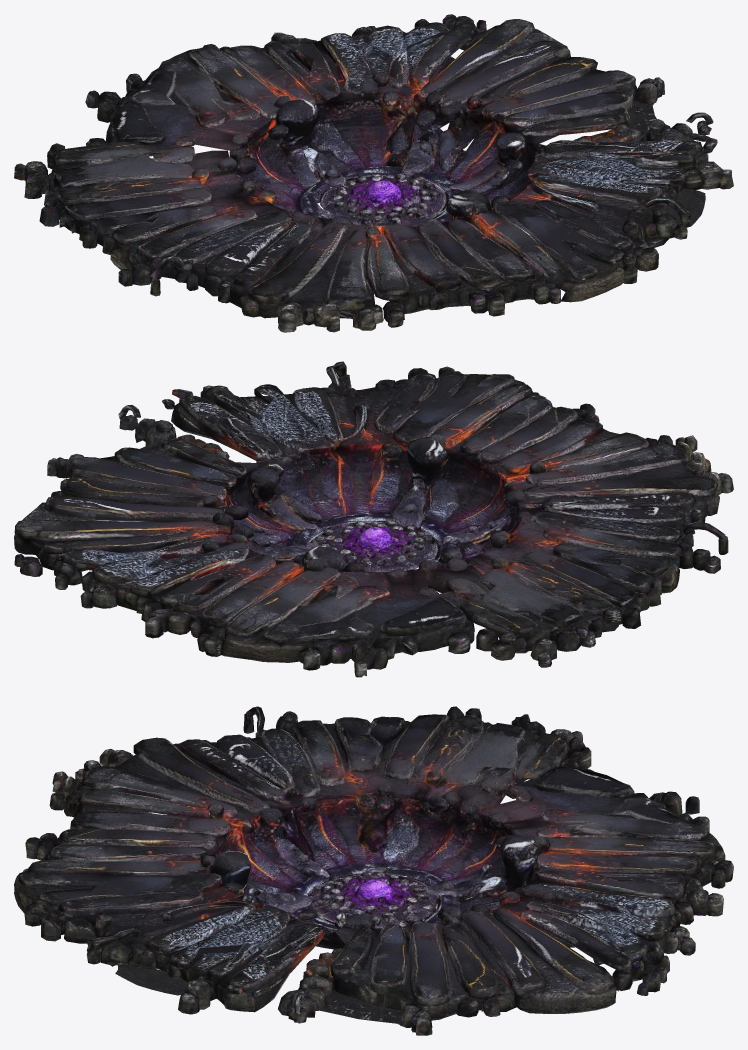
The model's file is boss-impact-crater.glb.
3 renders of one model, top to bottom at view 1: azimuth 30°, elevation 25°; view 2: azimuth 150°, elevation 25°; view 3: azimuth 270°, elevation 25°, orthographic. The views are drawn at different scales.
Parts seen in each view (by area): view 1: Mesh_0; view 2: Mesh_0; view 3: Mesh_0.
Part boxes in pixels (x1=…): Mesh_0: x1=14, y1=14, x2=733, y2=332; Mesh_0: x1=14, y1=361, x2=733, y2=677; Mesh_0: x1=14, y1=706, x2=733, y2=1035.
Bounding box in the file's own units: 3.22 × 0.3 × 3.17.
Materials: 1 (1 with a texture image).
